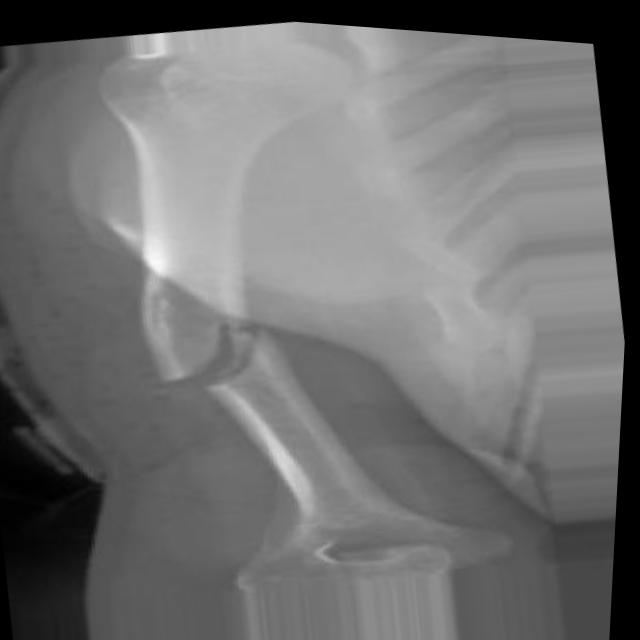fracture: (140, 295, 303, 406)
